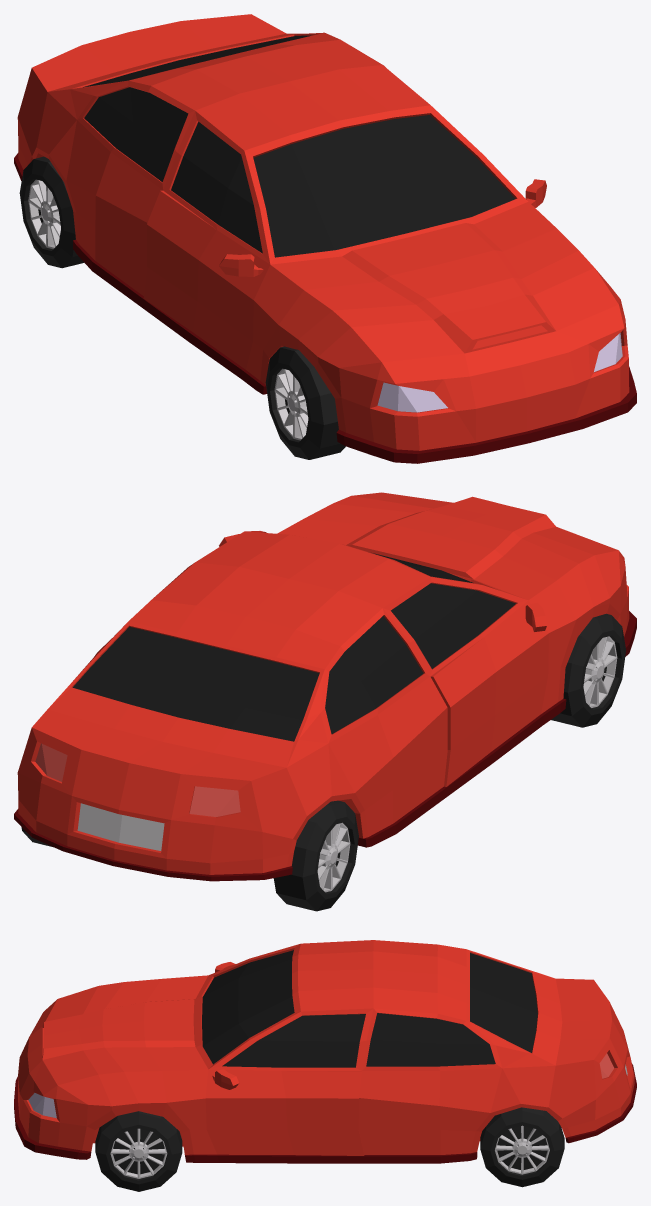
Rendered from sportscar.glb.
3 views of the same model, one above another, from view 1: azimuth 30°, elevation 25°; view 2: azimuth 150°, elevation 25°; view 3: azimuth 270°, elevation 25° (orthographic). The views are drawn at different scales.
Parts seen in each view (by area): view 1: SportsCar, SportsCar_FrontRightWheel, SportsCar_BackWheels; view 2: SportsCar, SportsCar_BackWheels, SportsCar_FrontRightWheel; view 3: SportsCar, SportsCar_FrontLeftWheel, SportsCar_BackWheels.
Boxes of the visible parts, x1,y1,x2,y2 form: SportsCar: [14, 14, 636, 463]; SportsCar_FrontRightWheel: [265, 346, 345, 459]; SportsCar_BackWheels: [19, 156, 84, 268]; SportsCar: [14, 492, 636, 881]; SportsCar_BackWheels: [21, 800, 358, 911]; SportsCar_FrontRightWheel: [551, 613, 625, 727]; SportsCar: [14, 940, 636, 1163]; SportsCar_FrontLeftWheel: [95, 1111, 182, 1191]; SportsCar_BackWheels: [480, 1107, 564, 1187].
Bounding box in the file's own units: 1.8 × 1.17 × 3.97.
